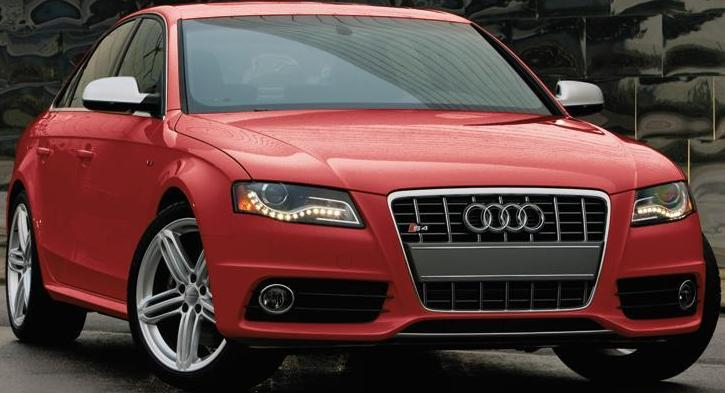front_view: (217, 158, 708, 338)
headlight: (224, 167, 366, 235)
side_glass: (58, 15, 166, 113)
